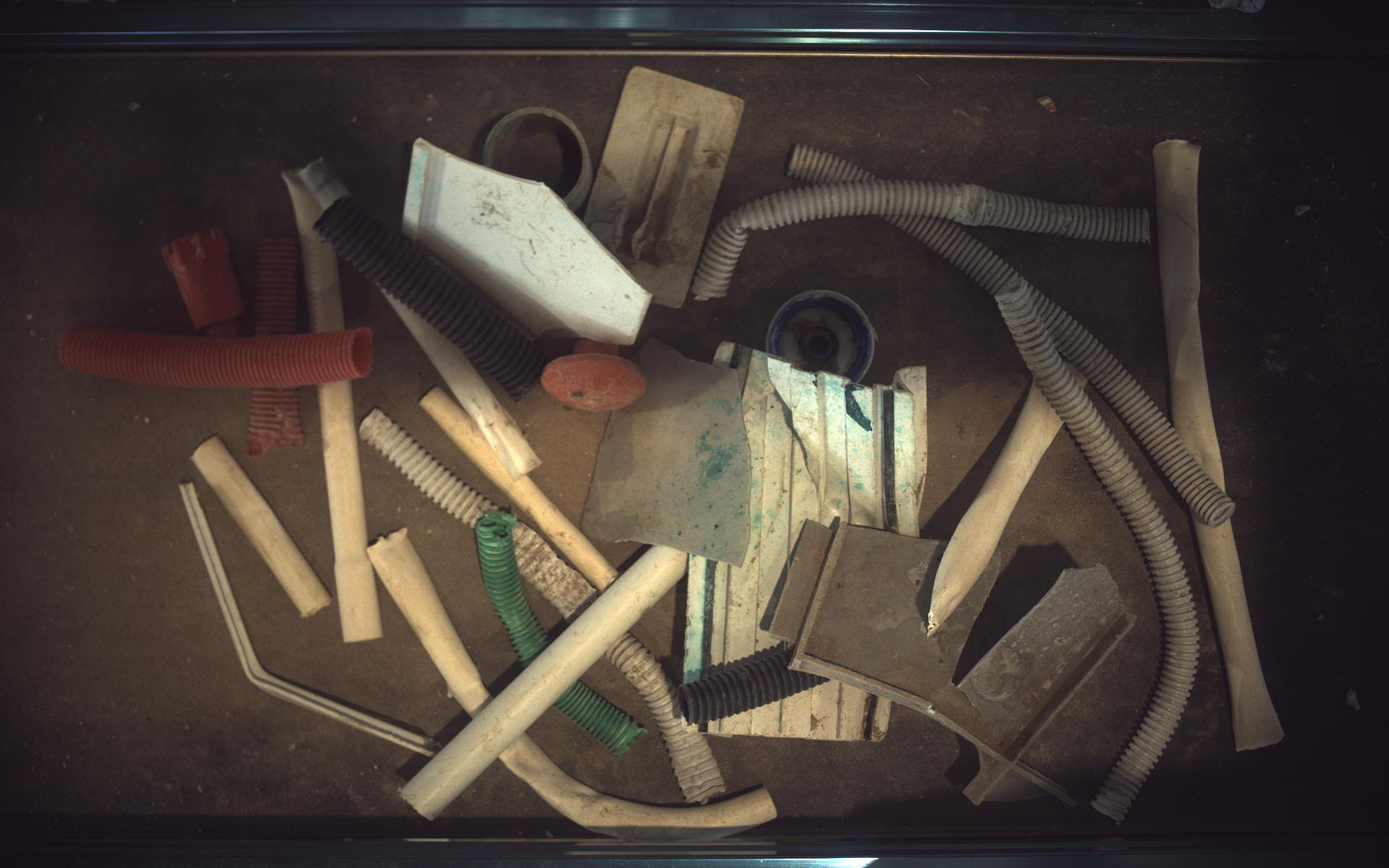pipes: (998, 277, 1202, 823), (692, 179, 1152, 299), (1032, 286, 1239, 528), (315, 195, 545, 399), (420, 388, 619, 591), (930, 384, 1064, 636), (384, 292, 540, 479), (500, 736, 778, 840), (192, 436, 331, 618), (1156, 139, 1227, 489), (367, 529, 490, 715), (1199, 520, 1287, 752), (59, 324, 373, 388), (608, 634, 726, 804), (318, 380, 383, 643), (360, 409, 498, 528), (679, 644, 830, 726), (475, 511, 551, 668), (483, 106, 593, 210), (891, 216, 1021, 294), (282, 170, 344, 332), (514, 522, 597, 620), (556, 682, 647, 760), (253, 238, 299, 336), (247, 388, 305, 457), (790, 146, 872, 184), (297, 157, 349, 211)
plastic: (772, 522, 1075, 804), (685, 343, 930, 676), (180, 484, 435, 757), (403, 137, 652, 344), (585, 65, 745, 307), (583, 339, 752, 566), (961, 565, 1138, 760), (710, 684, 891, 742), (768, 289, 878, 382), (161, 227, 243, 337), (541, 338, 646, 412), (967, 757, 1042, 805)
